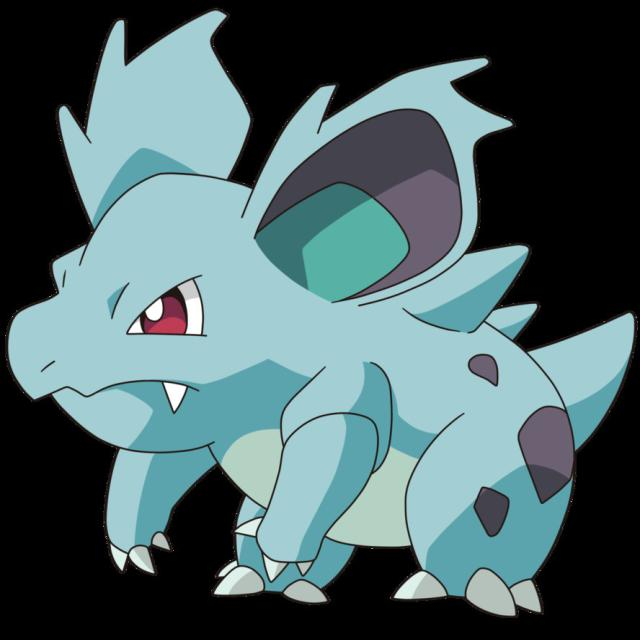Nidorina: (0, 0, 636, 635)
